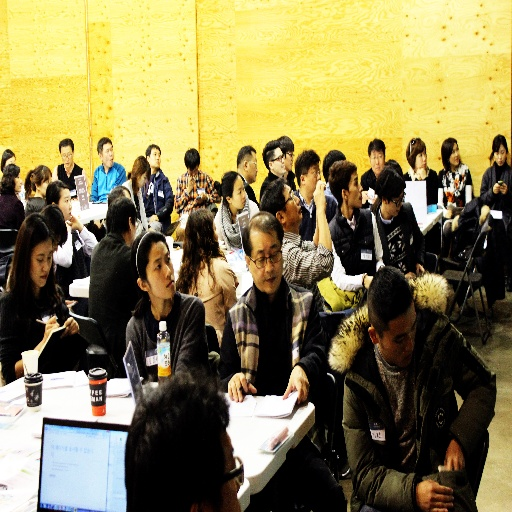hand: (414, 476, 455, 511), (282, 364, 311, 406), (227, 372, 257, 403), (443, 441, 467, 471), (311, 179, 328, 208), (42, 314, 59, 341), (63, 314, 80, 336), (312, 181, 326, 207), (67, 211, 81, 231), (186, 174, 198, 192), (194, 190, 205, 205), (416, 166, 426, 181), (490, 181, 501, 194), (364, 276, 374, 290), (360, 189, 369, 203), (148, 212, 159, 223), (404, 270, 416, 280), (415, 262, 424, 275), (443, 208, 454, 218), (501, 182, 508, 195), (368, 192, 377, 202)
